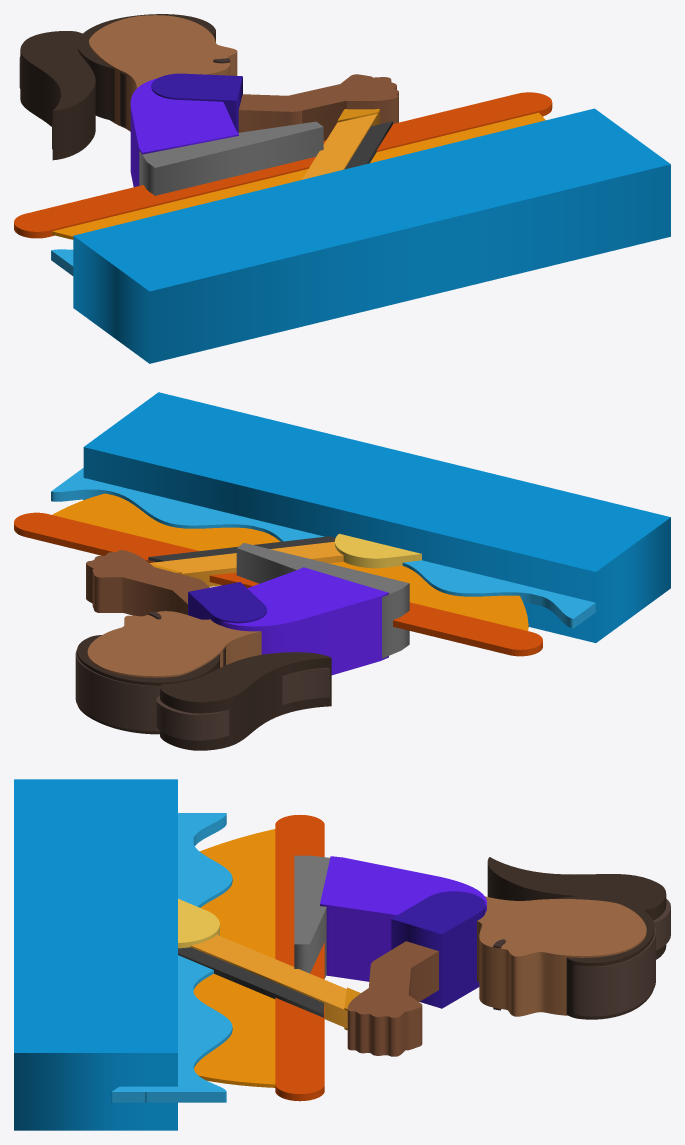
Rendered from emoji_u1f6a3_1f3fe_200d_2640.glb.
3 renders of one model, top to bottom at view 1: azimuth 30°, elevation 25°; view 2: azimuth 150°, elevation 25°; view 3: azimuth 270°, elevation 25°, orthographic. The views are drawn at different scales.
Parts seen in each view (by area): view 1: emoji_u1f6a3_1f3fe_200d_2640; view 2: emoji_u1f6a3_1f3fe_200d_2640; view 3: emoji_u1f6a3_1f3fe_200d_2640.
Boxes of the visible parts, x1,y1,x2,y2 form: emoji_u1f6a3_1f3fe_200d_2640: (14,14,670,363); emoji_u1f6a3_1f3fe_200d_2640: (14,392,670,750); emoji_u1f6a3_1f3fe_200d_2640: (14,779,670,1130).
Bounding box in the file's own units: 0.0339 × 0.0044 × 0.0336.
